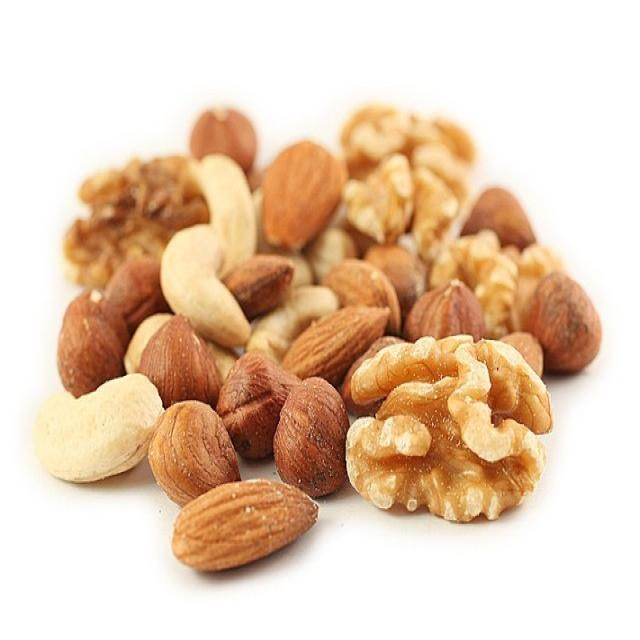Frutta secca: (40, 95, 604, 561)
